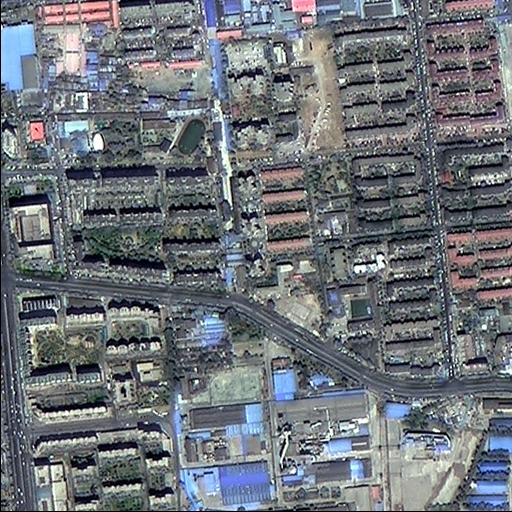school: (140, 113, 213, 159)
